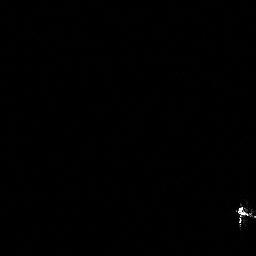ship: (232, 198, 256, 231)
